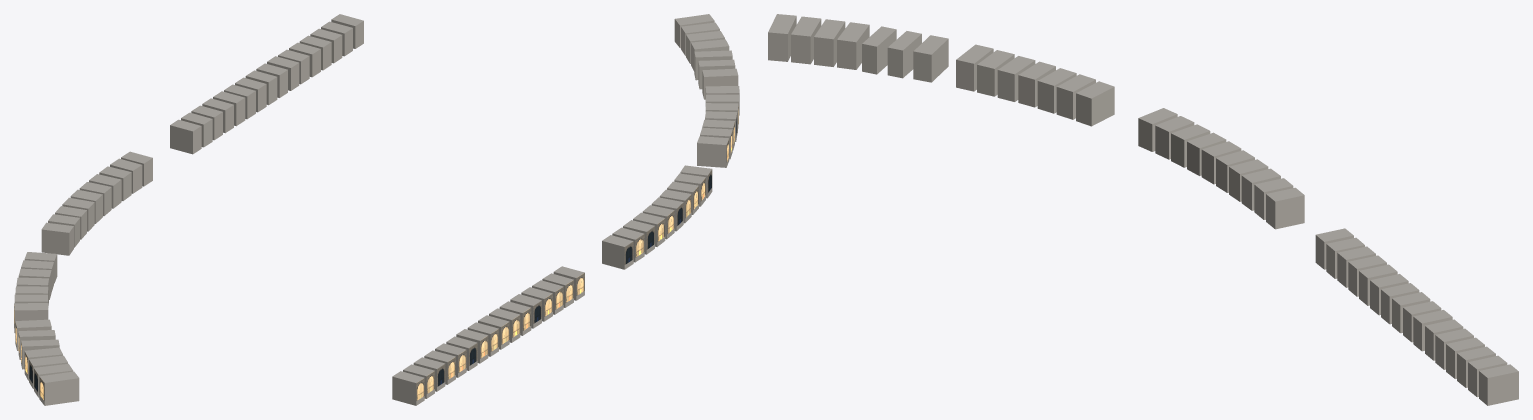
File: viadukt_arches.glb
3 renders of one model, left to right at view 1: azimuth 30°, elevation 25°; view 2: azimuth 210°, elevation 25°; view 3: azimuth 270°, elevation 25°, orthographic. The views are drawn at different scales.
Parts seen in each view (by area): view 1: viadukt; view 2: viadukt; view 3: viadukt.
Boxes of the visible parts, bbox=[...] form: viadukt: bbox=[14, 14, 363, 405]; viadukt: bbox=[392, 14, 739, 405]; viadukt: bbox=[768, 14, 1518, 405].
Size of the model in its own units: 349 by 13.44 by 305.
Materials: 2 (2 with a texture image).
